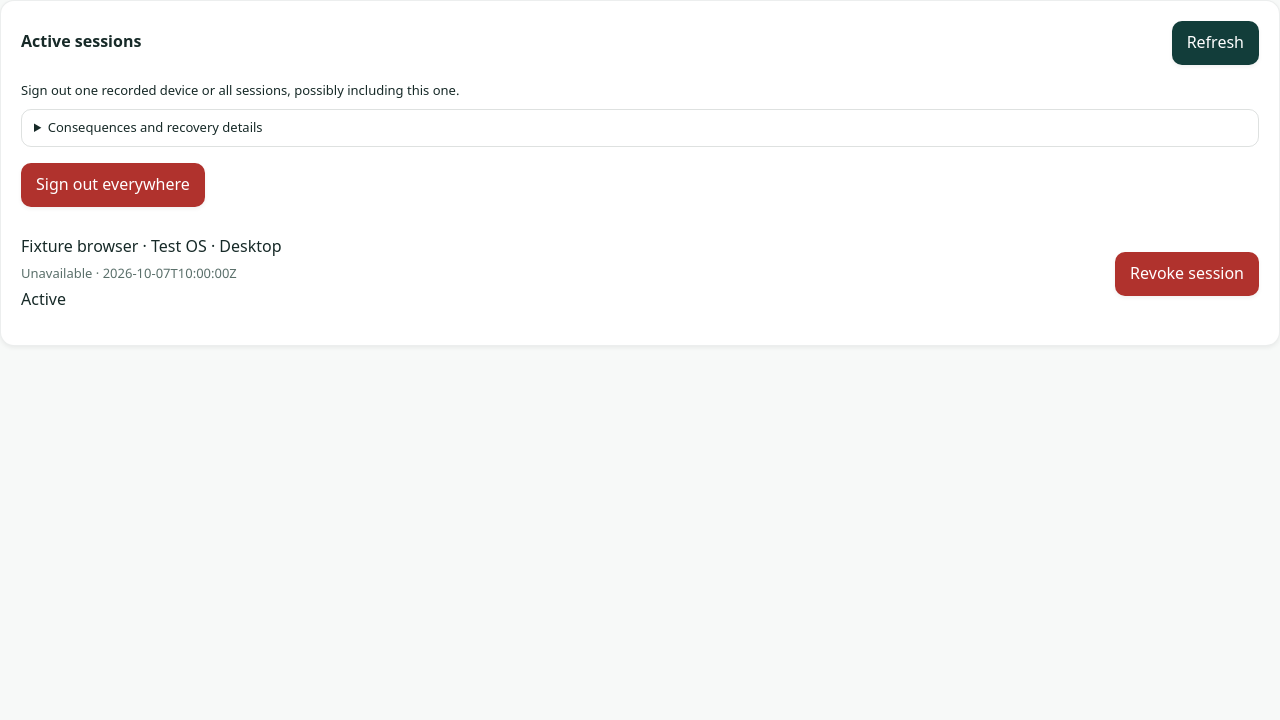
sign-out-everywhere retains the current-session warning and validates the distinct write contract
expect the text "Fixture browser · Test OS · Desktop" is shown: met, box top-left (21, 230), bottom-right (282, 264)
Click the button "Sign out everywhere" at (113, 185), box top-left (21, 163), bottom-right (205, 207)
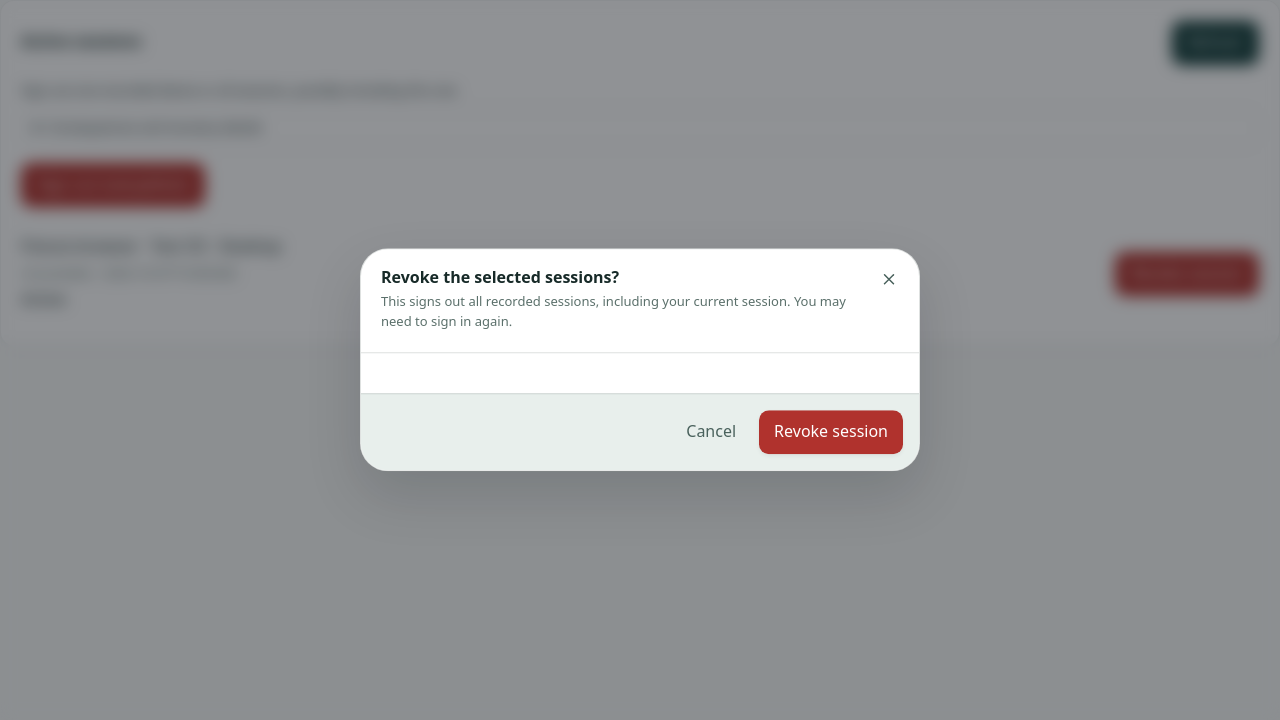
expect the text "This signs out all recorded sessions, including your current session. You may need to sign in again." is shown: met, box top-left (381, 288), bottom-right (846, 337)
Click the button "Revoke session" at (831, 433), box top-left (759, 411), bottom-right (903, 455)
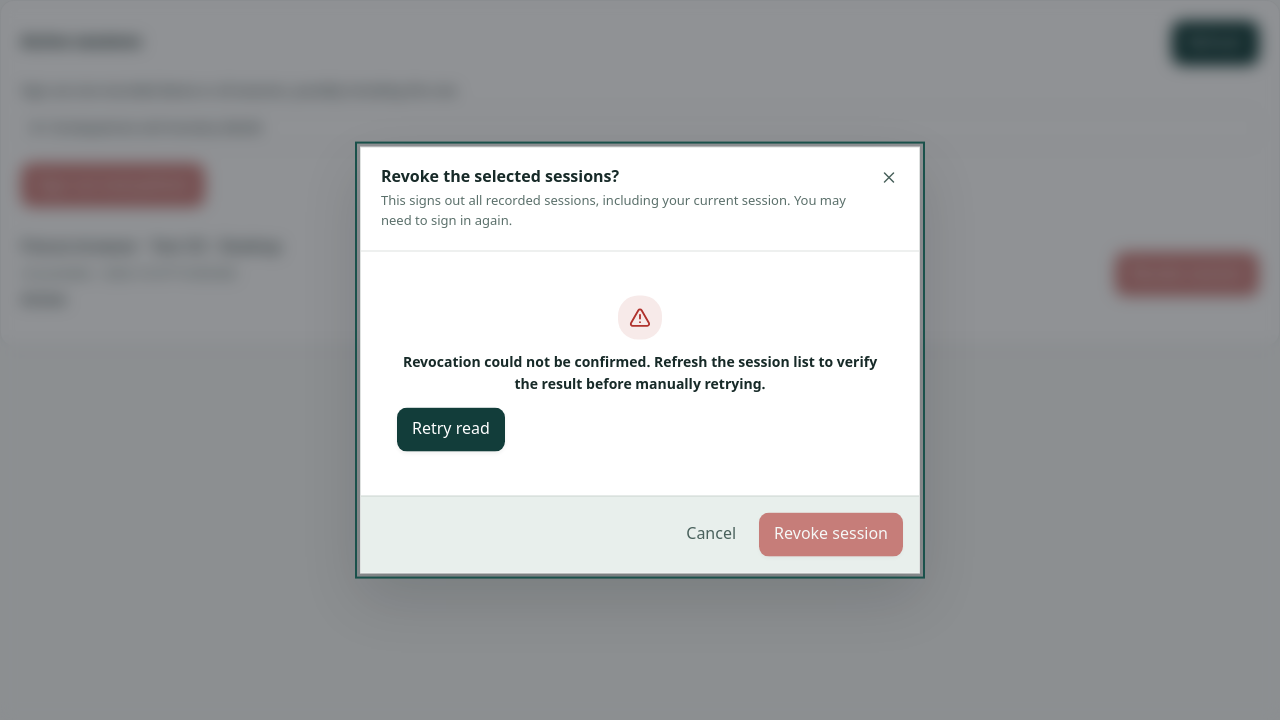
expect the text "Revocation could not be confirmed. Refresh the session list to verify the result before manually retrying." is shown: met, box top-left (403, 348), bottom-right (877, 399)
